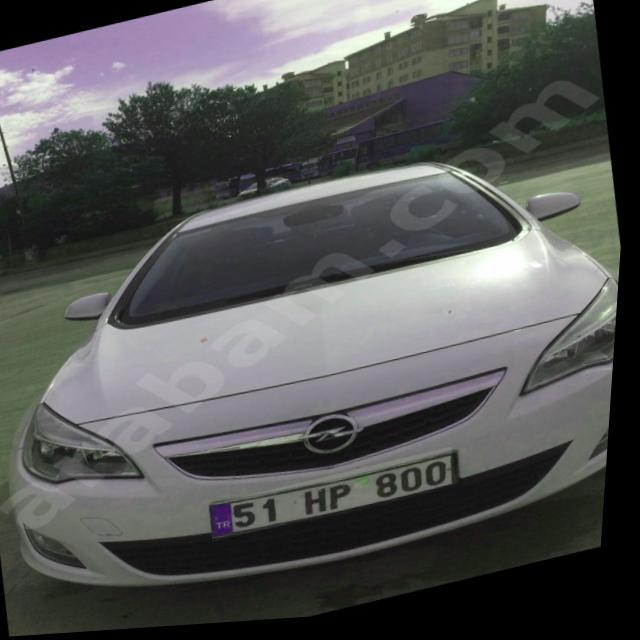license_plate: (214, 452, 467, 545)
